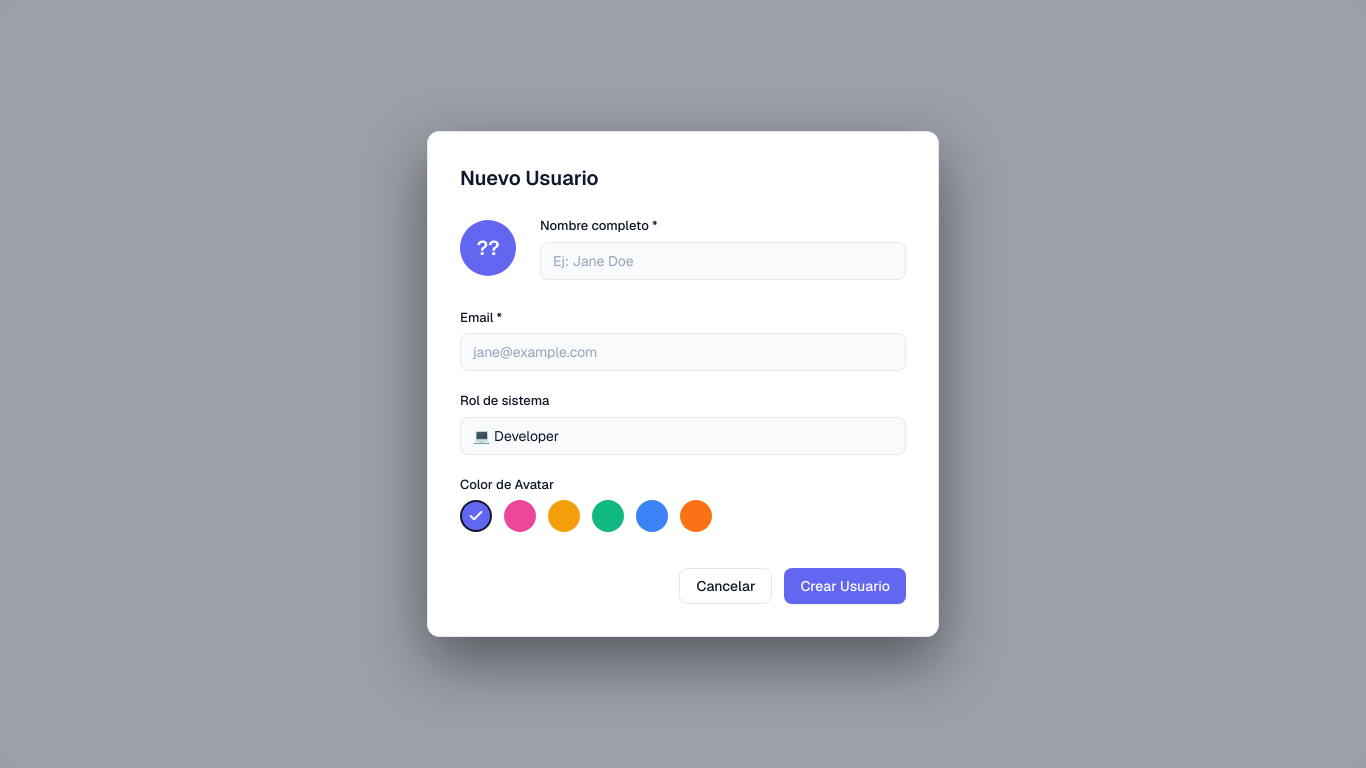
UserFormModal › genera iniciales automáticamente al escribir el nombre
This screenshot has width=1366, height=768.
Type "Juan Pérez" into the field with placeholder "Ej: Jane Doe" at (723, 260), box left=540, top=242, right=906, bottom=280
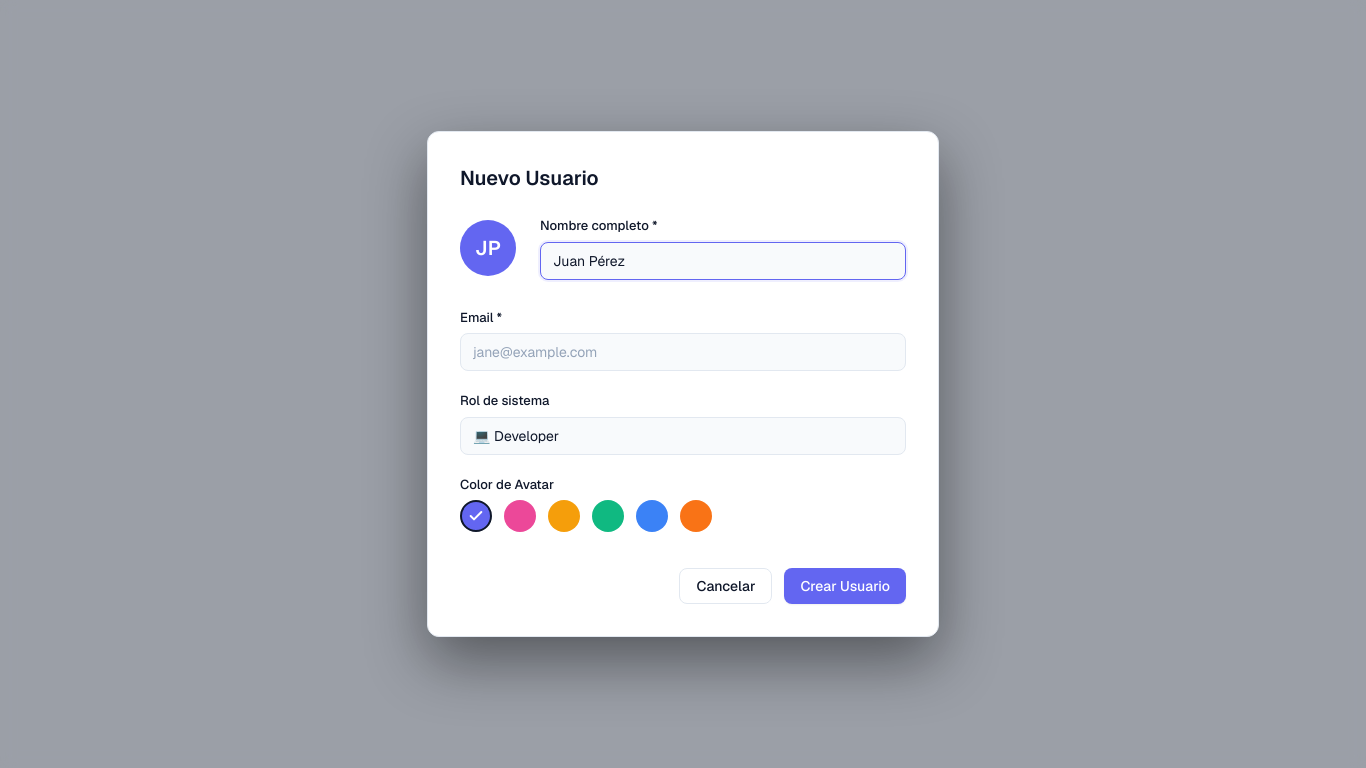
Expected: the text "JP" is shown, left=460, top=220, right=516, bottom=276
